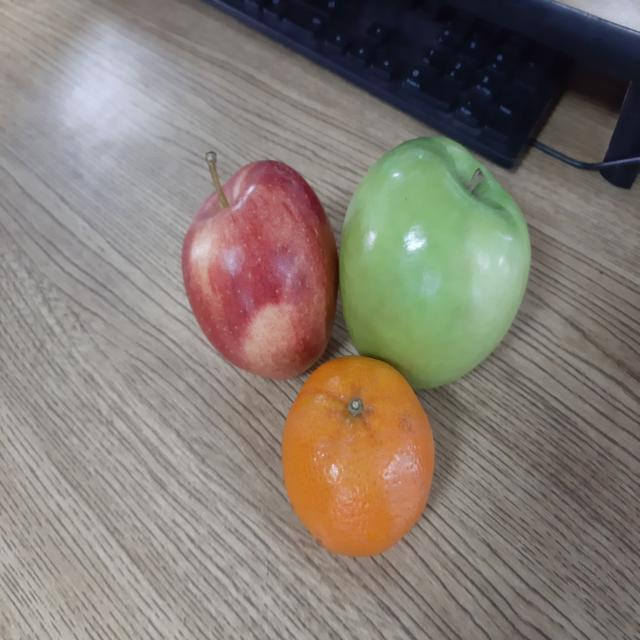Apel Gala: (181, 142, 340, 382)
Apel Granny Smith: (342, 128, 534, 394)
Jeruk Mandarin: (282, 353, 438, 557)
